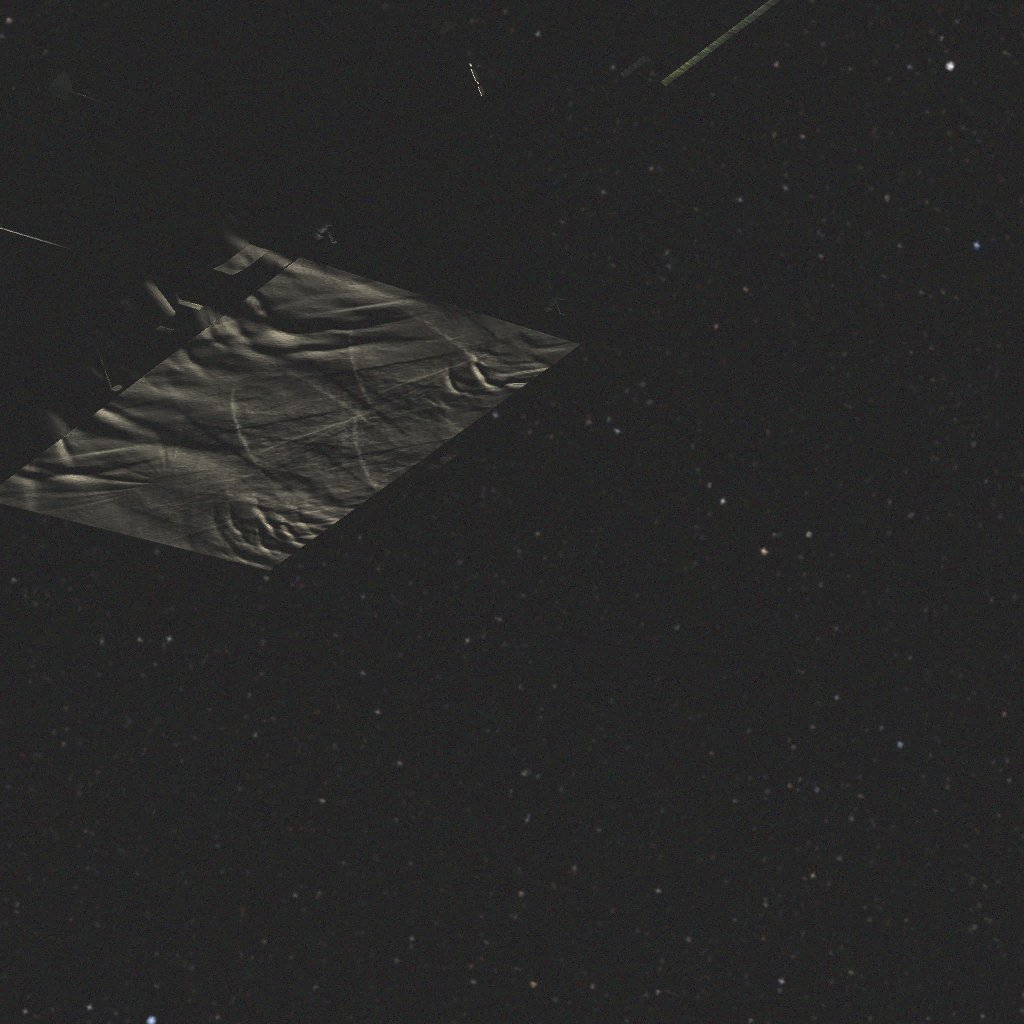smart_1: (0, 0, 780, 570)
